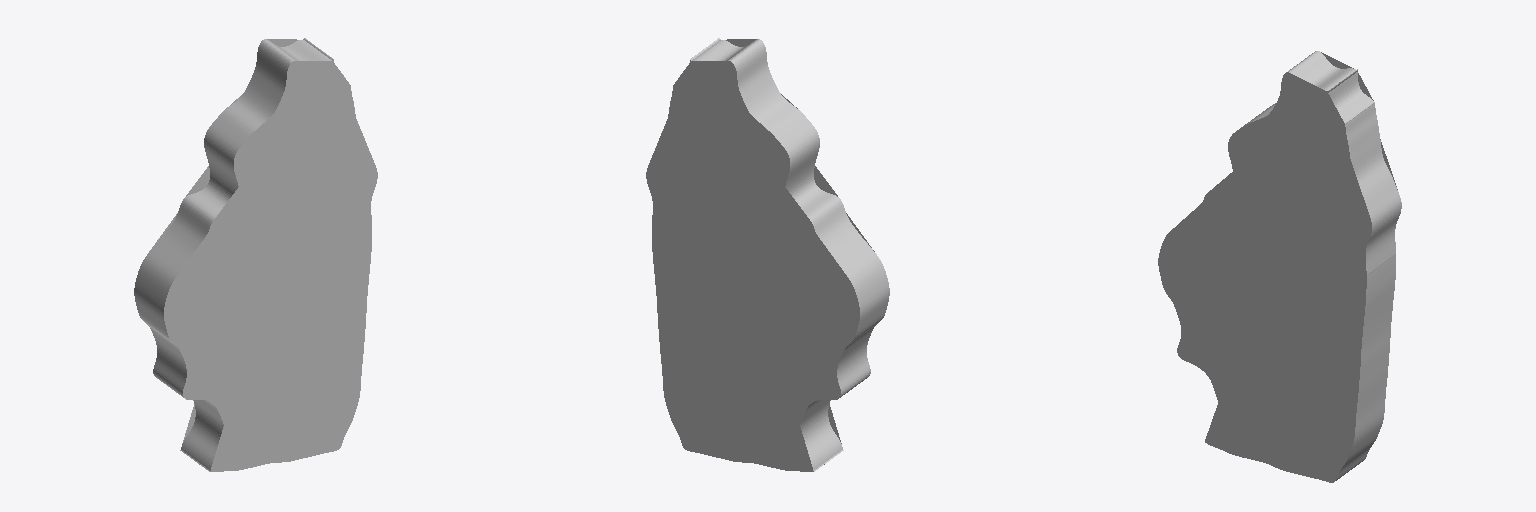
The picture shows the model from 3 angles: view 1: azimuth 30°, elevation 25°; view 2: azimuth 150°, elevation 25°; view 3: azimuth 330°, elevation 25°; orthographic projection.
Parts seen in each view (by area): view 1: 平面; view 2: 平面; view 3: 平面.
Part boxes in pixels (bbox=[...]): 平面: bbox=[134, 38, 377, 471]; 平面: bbox=[646, 38, 889, 471]; 平面: bbox=[1158, 51, 1401, 482].
Size of the model in its own units: 0.8348 by 1.49 by 0.2.